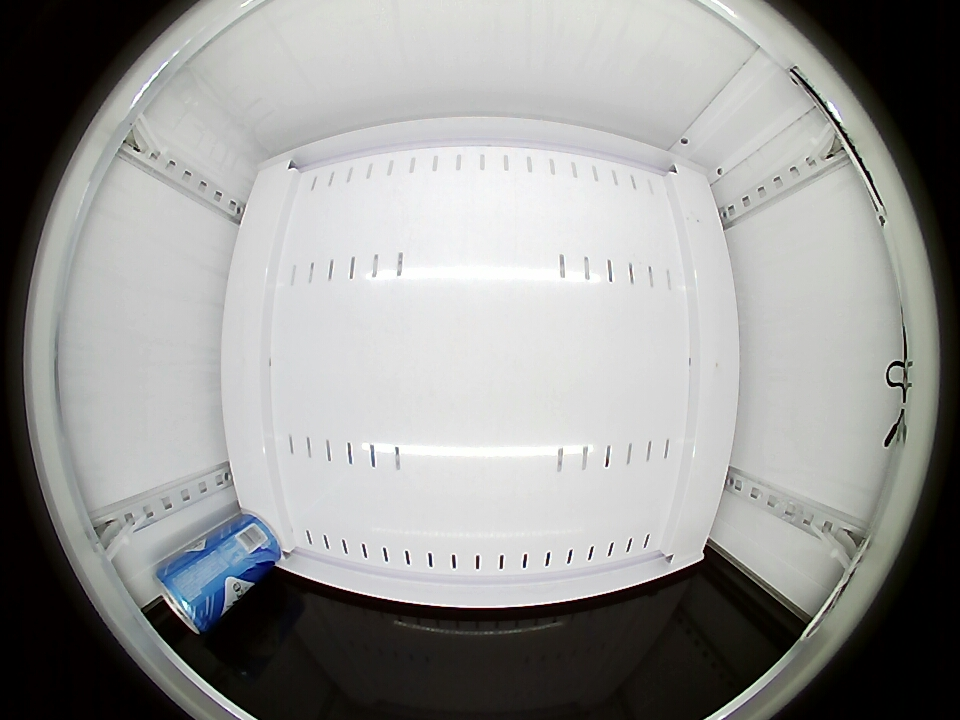qingdaowangzi-2: (154, 551, 226, 634)
